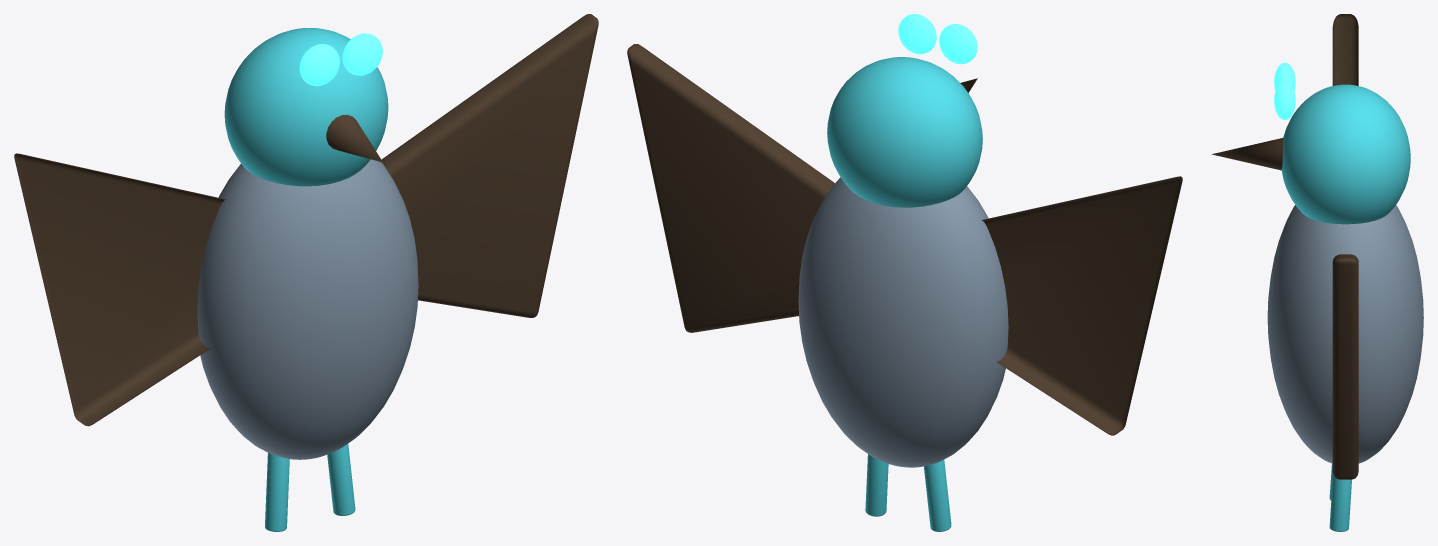
Rendered from avian_v4.glb.
3 views of the same model, side by side, from view 1: azimuth 30°, elevation 25°; view 2: azimuth 150°, elevation 25°; view 3: azimuth 270°, elevation 25° (orthographic). The views are drawn at different scales.
Visible parts, largest first — view 1: RAVEN_BODY_PRIMARY, RAVEN_WING_SECONDARY.001, RAVEN_WING_SECONDARY, RAVEN_HEAD_ACCENT, RAVEN_LEG_ACCENT, RAVEN_LEG_ACCENT.001, RAVEN_BEAK_SECONDARY, EYE_EMISSIVE.001, EYE_EMISSIVE; view 2: RAVEN_BODY_PRIMARY, RAVEN_WING_SECONDARY.001, RAVEN_WING_SECONDARY, RAVEN_HEAD_ACCENT, RAVEN_LEG_ACCENT, EYE_EMISSIVE.001, RAVEN_LEG_ACCENT.001, EYE_EMISSIVE; view 3: RAVEN_BODY_PRIMARY, RAVEN_HEAD_ACCENT, RAVEN_WING_SECONDARY.001, RAVEN_WING_SECONDARY, RAVEN_BEAK_SECONDARY, RAVEN_LEG_ACCENT.001, EYE_EMISSIVE.001, EYE_EMISSIVE.
Part boxes in pixels (x1,y1,x2,y2): RAVEN_BODY_PRIMARY: (197,159,418,459); RAVEN_WING_SECONDARY.001: (381,14,598,317); RAVEN_WING_SECONDARY: (14,153,225,426); RAVEN_HEAD_ACCENT: (224,28,388,186); RAVEN_LEG_ACCENT: (265,453,289,531); RAVEN_LEG_ACCENT.001: (327,444,355,515); RAVEN_BEAK_SECONDARY: (326,114,382,162); EYE_EMISSIVE.001: (342,33,382,75); EYE_EMISSIVE: (299,44,339,86); RAVEN_BODY_PRIMARY: (798,177,1008,467); RAVEN_WING_SECONDARY.001: (627,44,834,332); RAVEN_WING_SECONDARY: (981,176,1182,435); RAVEN_HEAD_ACCENT: (827,57,982,207); RAVEN_LEG_ACCENT: (923,459,951,531); EYE_EMISSIVE.001: (898,14,936,54); RAVEN_LEG_ACCENT.001: (865,454,888,516); EYE_EMISSIVE: (939,24,977,64); RAVEN_BODY_PRIMARY: (1267,205,1423,463); RAVEN_HEAD_ACCENT: (1281,84,1410,224); RAVEN_WING_SECONDARY.001: (1332,254,1358,479); RAVEN_WING_SECONDARY: (1332,14,1358,85); RAVEN_BEAK_SECONDARY: (1212,138,1283,170); RAVEN_LEG_ACCENT.001: (1329,473,1351,531); EYE_EMISSIVE.001: (1274,81,1295,119); EYE_EMISSIVE: (1274,62,1295,90).
Bounding box in the file's own units: 2.69 × 2.24 × 0.98.
